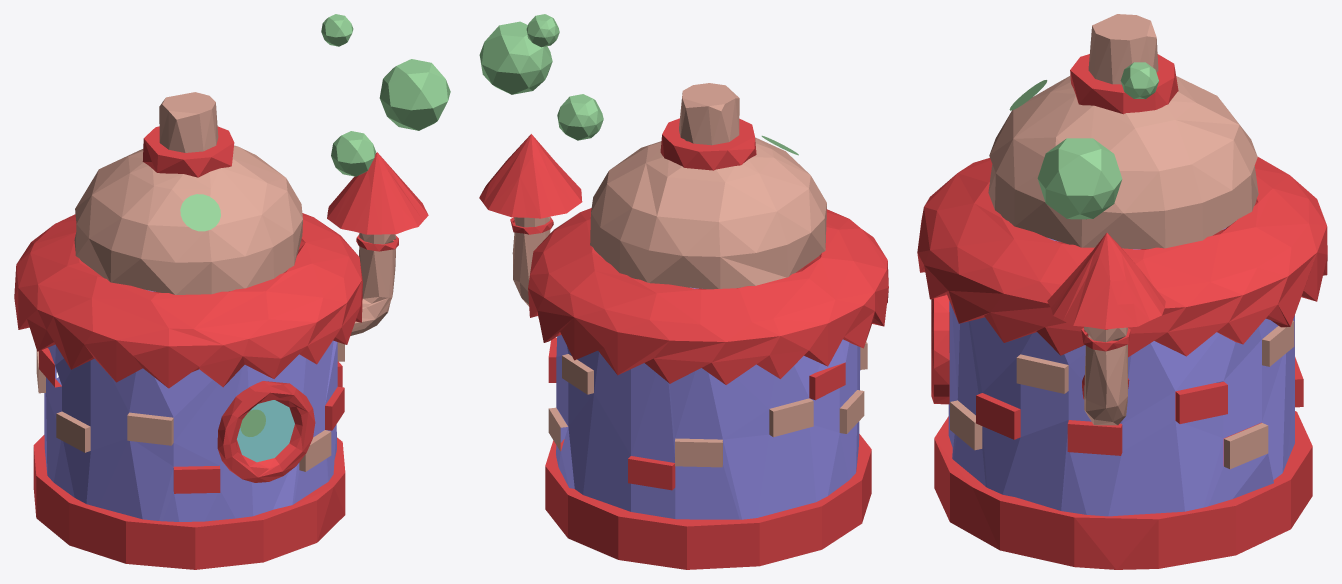
Rendered from Maison3.FBX.
3 views of the same model, side by side, from view 1: azimuth 30°, elevation 25°; view 2: azimuth 150°, elevation 25°; view 3: azimuth 270°, elevation 25° (orthographic). The views are drawn at different scales.
Parts seen in each view (by area): view 1: Cylinder049; view 2: Cylinder049; view 3: Cylinder049.
Part boxes in pixels (x1,y1,x2,y2): Cylinder049: (14, 14, 450, 569); Cylinder049: (479, 14, 888, 569); Cylinder049: (917, 14, 1327, 569).
Size of the model in its own units: 6.55 by 7.08 by 5.12.
